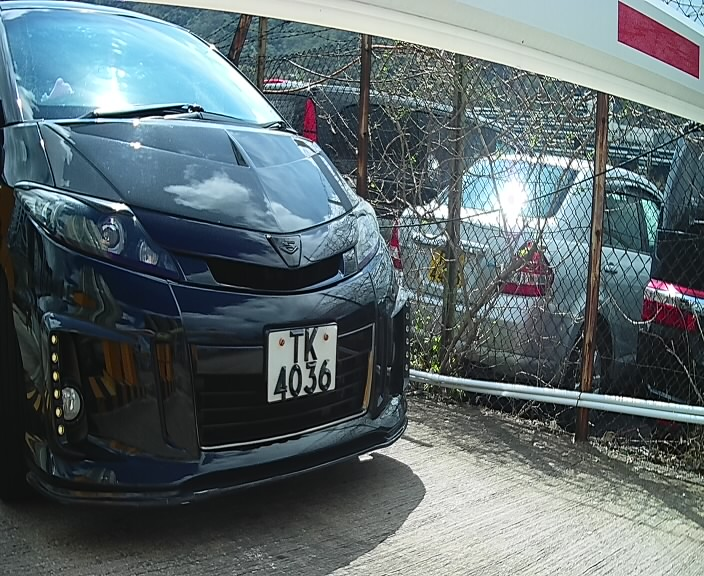License Plate: (253, 312, 347, 413)
